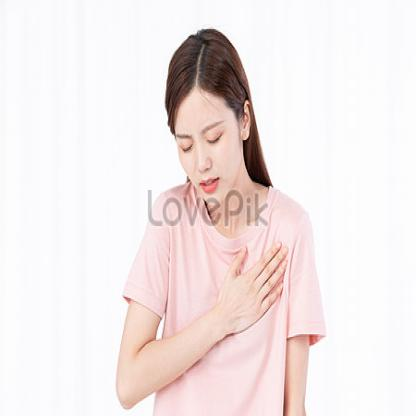pain: (167, 118, 228, 156)
